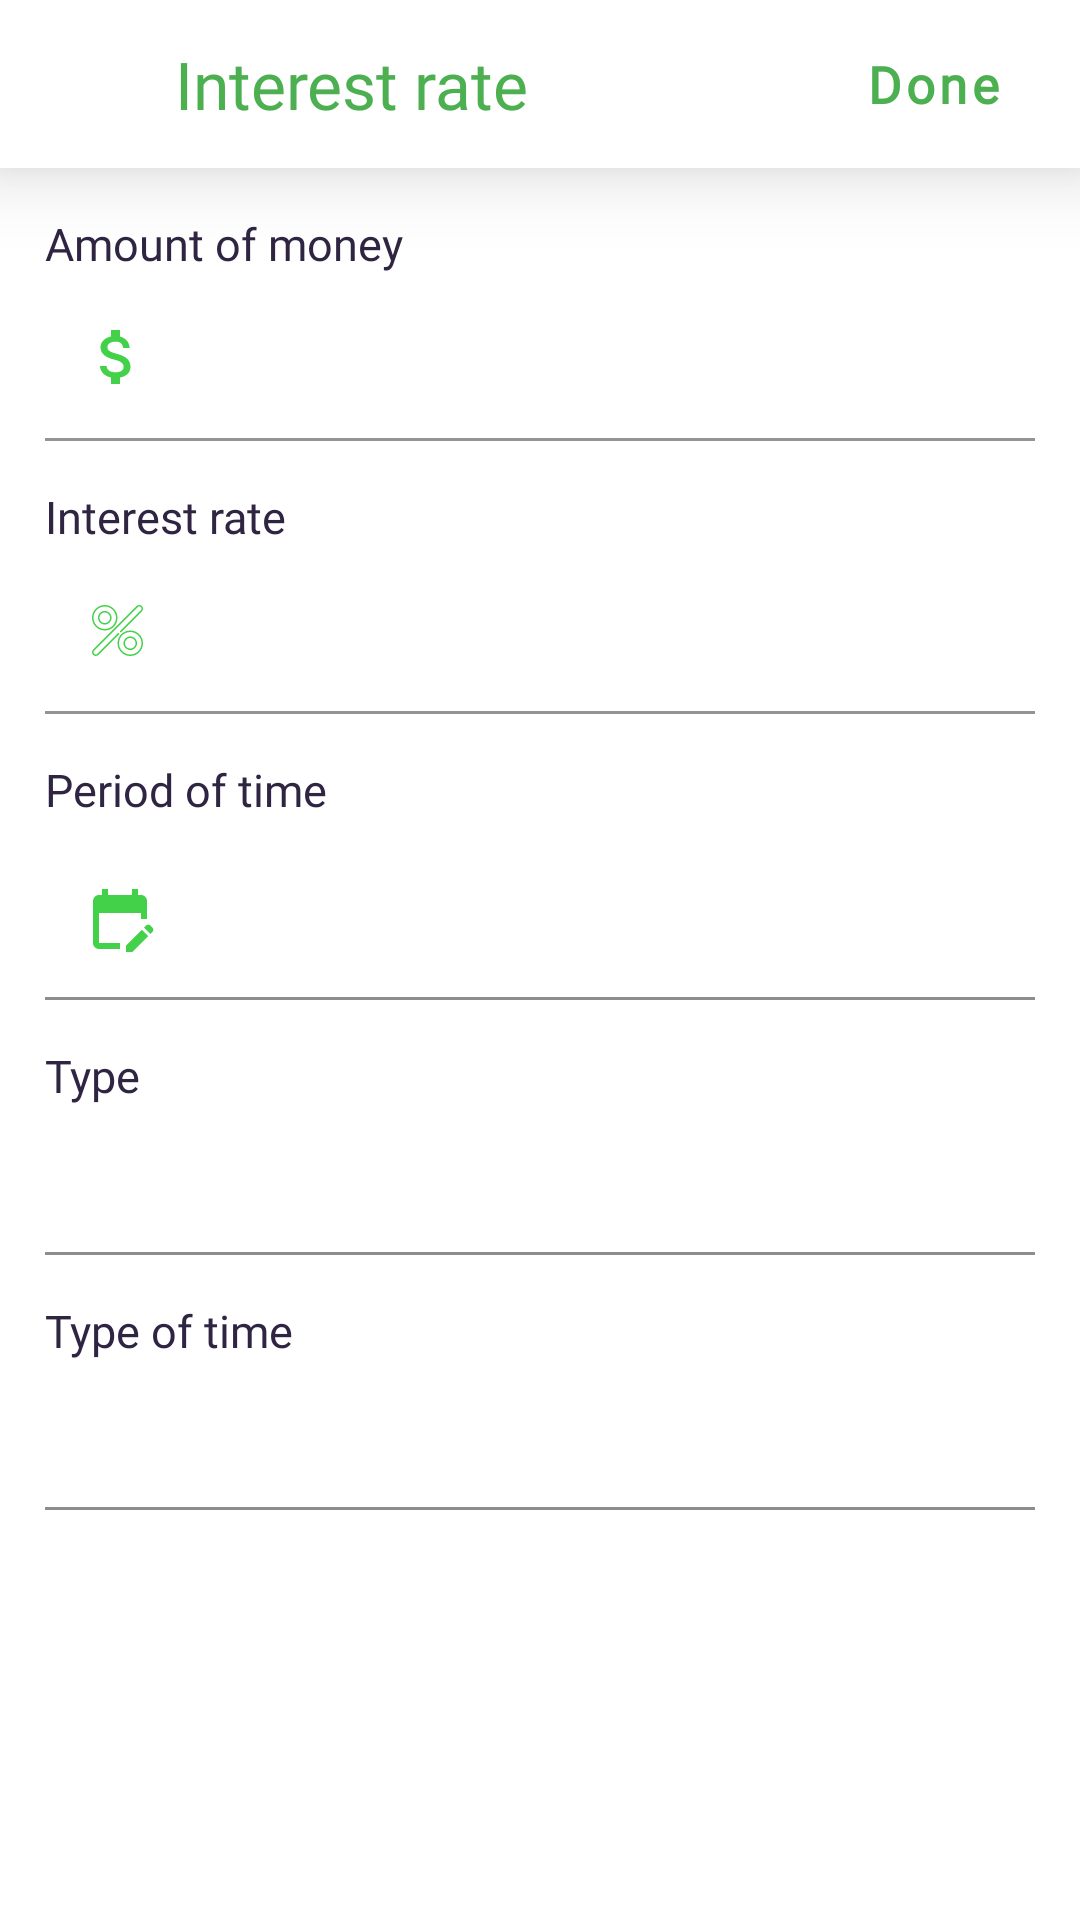

Icon bounding boxes for this 1080 × 1920 phone screenshot, format (x1, y1, x2, y2):
edit calendar: (93, 889, 154, 952)
